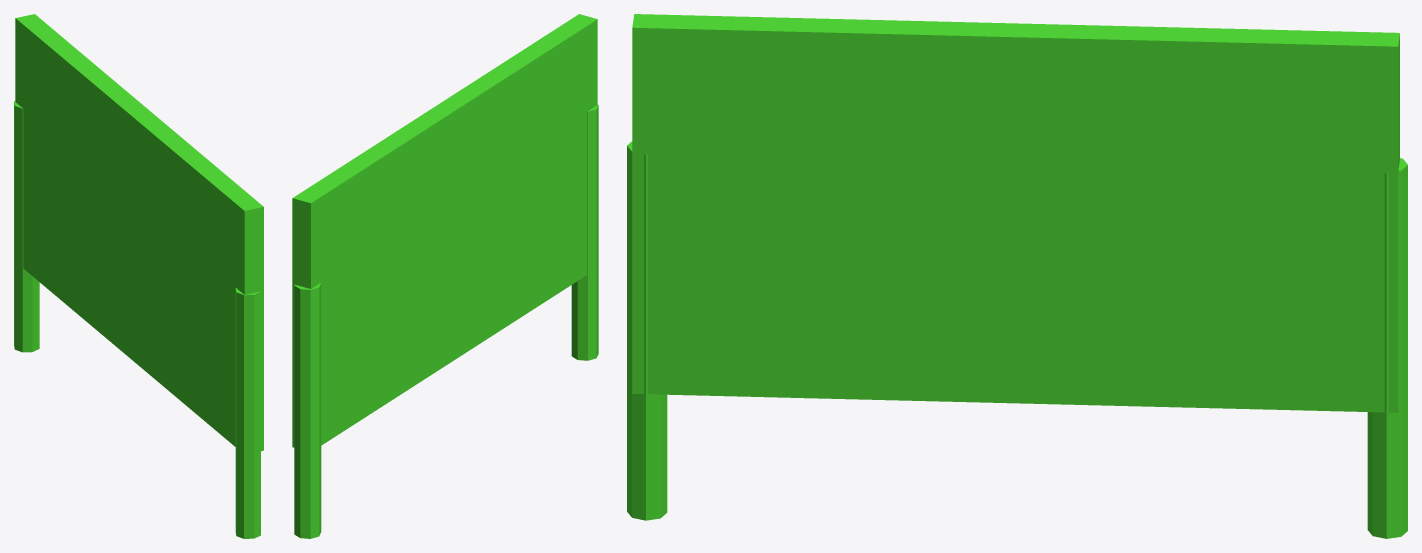
Rendered from cylinder.002.002_lev1.glb.
3 views of the same model, side by side, from view 1: azimuth 30°, elevation 25°; view 2: azimuth 150°, elevation 25°; view 3: azimuth 270°, elevation 25° (orthographic). The views are drawn at different scales.
Visible parts, largest first — view 1: cylinder.002.002_lev1; view 2: cylinder.002.002_lev1; view 3: cylinder.002.002_lev1.
Part boxes in pixels (left/top/right/bottom): cylinder.002.002_lev1: left=14, top=14, right=263, bottom=538; cylinder.002.002_lev1: left=292, top=14, right=598, bottom=538; cylinder.002.002_lev1: left=627, top=14, right=1407, bottom=538.
Size of the model in its own units: 0.5618 by 3.65 by 5.25.
